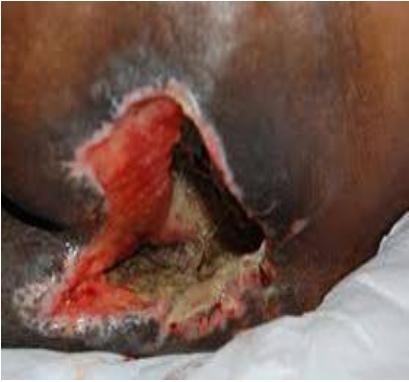Stage4: (26, 36, 329, 375)
